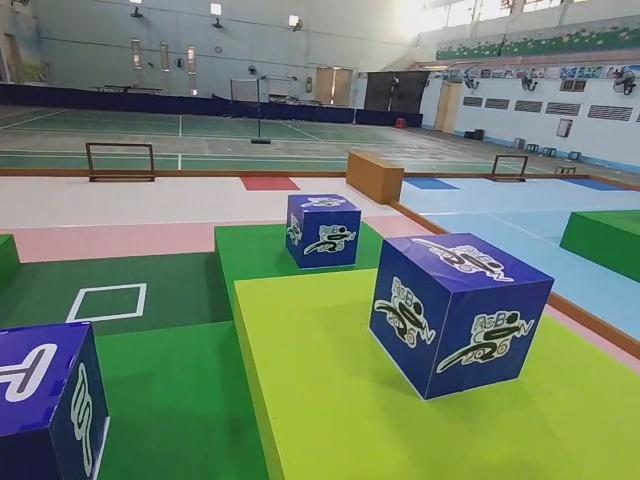R1 Blue: (369, 235, 551, 400), (286, 195, 362, 271)
R2 Fake Blue: (0, 320, 108, 478)
